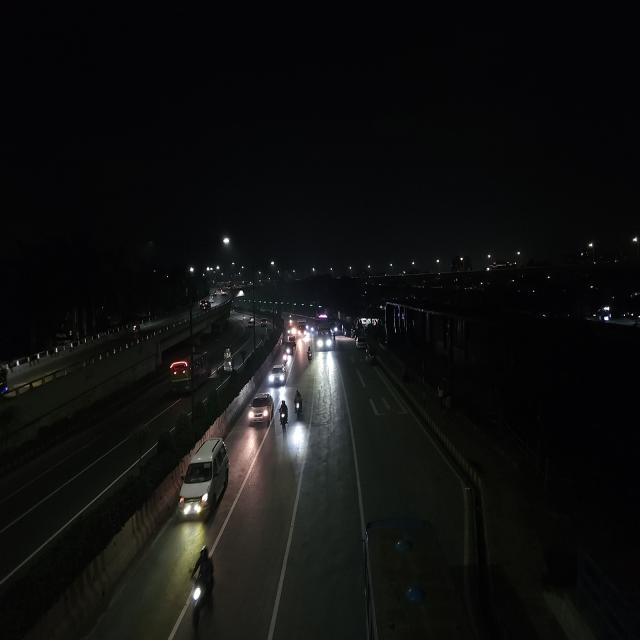bus: (168, 346, 210, 392), (315, 318, 333, 353)
car: (176, 436, 232, 527), (246, 392, 275, 429), (268, 362, 288, 387), (285, 336, 297, 358), (245, 314, 256, 326), (356, 336, 366, 349), (200, 300, 210, 311)
cng: (222, 343, 234, 362), (365, 350, 376, 365)
motorcycle: (183, 542, 220, 637), (292, 388, 305, 421), (277, 398, 289, 433), (306, 344, 313, 365)
truck: (297, 320, 307, 340)
